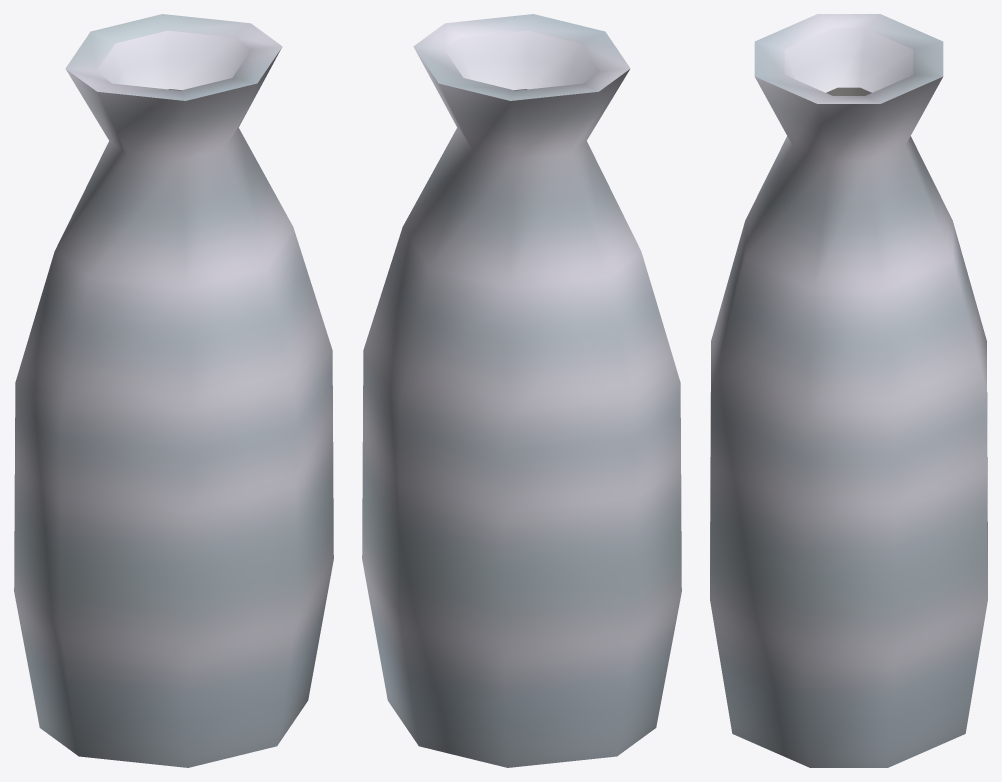
File: sake03alw.fbx
3 views of the same model, side by side, from view 1: azimuth 30°, elevation 25°; view 2: azimuth 150°, elevation 25°; view 3: azimuth 270°, elevation 25° (orthographic).
Visible parts, largest first — view 1: sake03alw; view 2: sake03alw; view 3: sake03alw.
Boxes of the visible parts, x1,y1,x2,y2 form: sake03alw: (14, 14, 333, 767); sake03alw: (362, 14, 681, 767); sake03alw: (710, 14, 987, 767).
Bounding box in the file's own units: 6.35 × 14.59 × 5.63.
